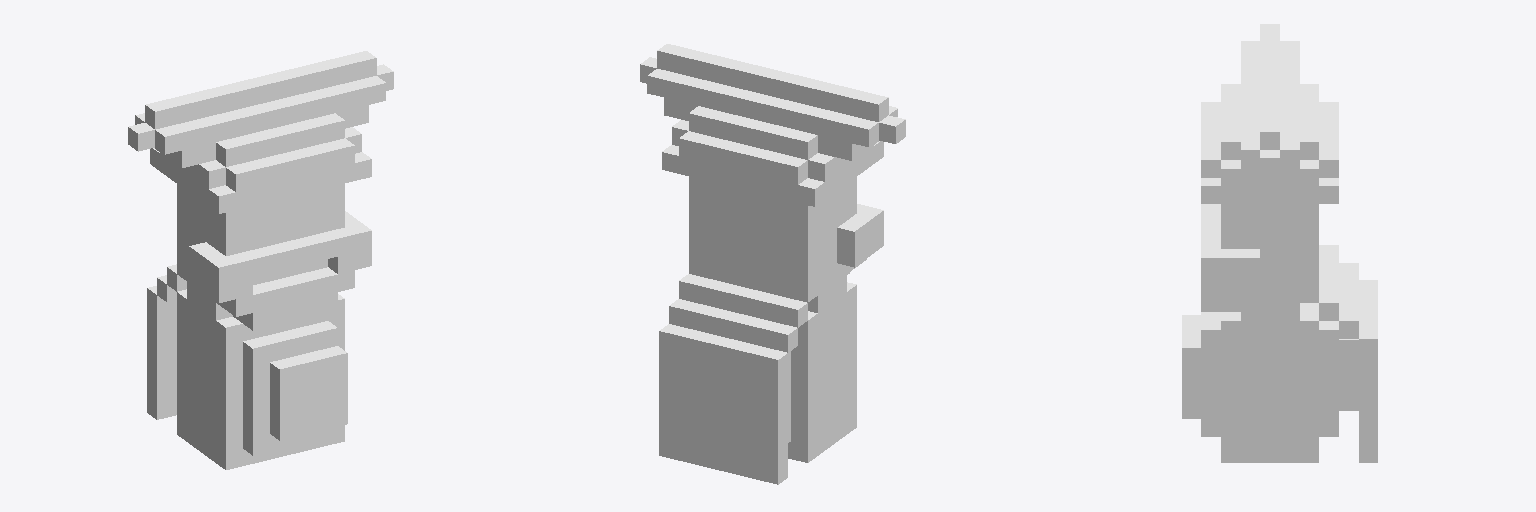
Rendered from Brogy_Bo.obj.
3 renders of one model, left to right at view 1: azimuth 30°, elevation 25°; view 2: azimuth 150°, elevation 25°; view 3: azimuth 270°, elevation 25°, orthographic.
Visible parts, largest first — view 1: object 1; view 2: object 1; view 3: object 1.
Boxes of the visible parts, x1=… form: object 1: x1=128, y1=51, x2=393, y2=469; object 1: x1=640, y1=44, x2=905, y2=484; object 1: x1=1182, y1=24, x2=1377, y2=462.
Bounding box in the file's own units: 1.5 × 2 × 1.